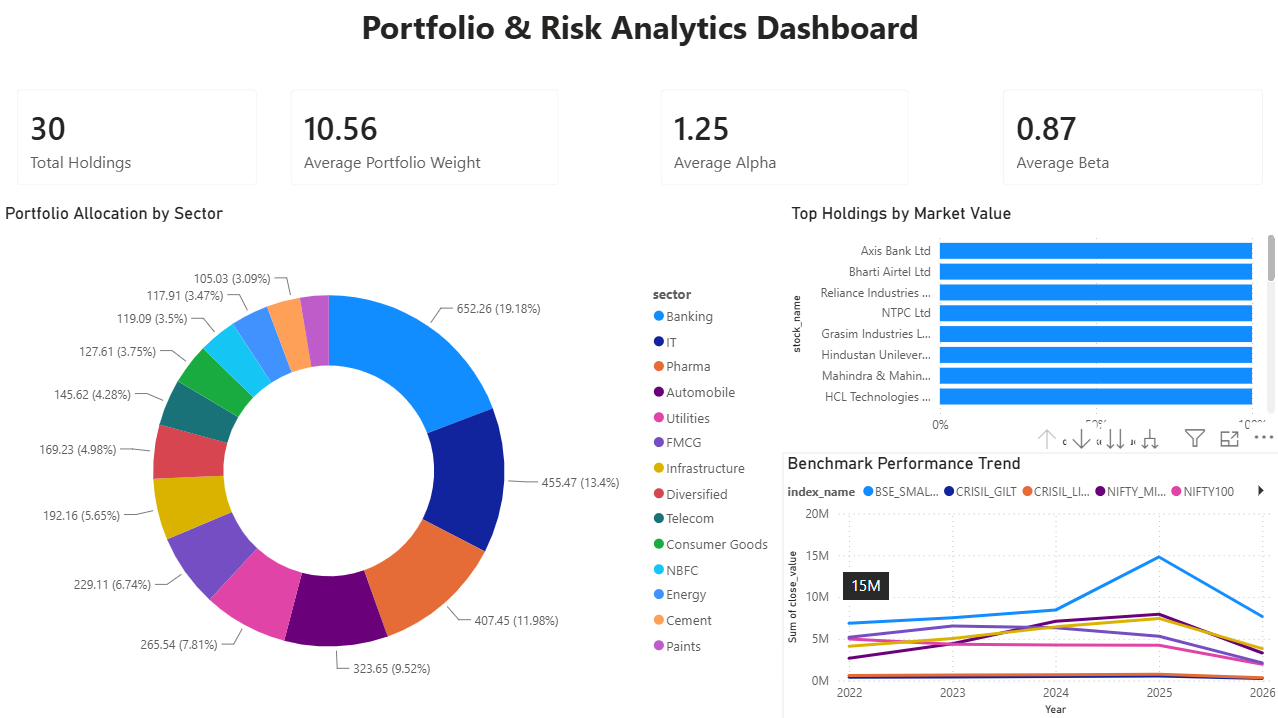

Layout of this report page (visuals, bound fields, positions):
{"tool":"powerbi","page":{"name":"Portfolio & Risk Analytics ","canvas":[1280,720],"ordinal":3},"visuals":[{"type":"textbox","box":[0,0,1280,71.7],"z":0},{"type":"cardVisual","fields":{"Data":["portfolio_clean.Average Portfolio Weight"]},"box":[274,72,302,130],"z":1000},{"type":"cardVisual","fields":{"Data":["portfolio_clean.Total Holdings"]},"box":[0,72,274,130],"z":2000},{"type":"cardVisual","fields":{"Data":["scheme_performance_clean.Average Alpha"]},"box":[644,72,282,130],"z":3000},{"type":"cardVisual","fields":{"Data":["scheme_performance_clean.Average Beta"]},"box":[986,72,294,130],"z":4000},{"type":"donutChart","title":"Portfolio Allocation by Sector","fields":{"Category":["portfolio_clean.sector"],"Y":["Sum(portfolio_clean.weight_pct)"]},"box":[0,202,782,518],"z":5000},{"type":"hundredPercentStackedBarChart","title":"Top Holdings by Market Value","fields":{"Category":["portfolio_clean.stock_name"],"Y":["Sum(portfolio_clean.market_value_cr)"]},"box":[786,202,494,250],"z":6000},{"type":"lineChart","title":"Benchmark Performance Trend","fields":{"Category":["benchmark_clean.date.Variation.Date Hierarchy.Year","benchmark_clean.date.Variation.Date Hierarchy.Quarter","benchmark_clean.date.Variation.Date Hierarchy.Month","benchmark_clean.date.Variation.Date Hierarchy.Day"],"Y":["Sum(benchmark_clean.close_value)"],"Series":["benchmark_clean.index_name"]},"box":[782,452,498,268],"z":7000}]}

Visuals, with their boxes in screenshot pixels (x1, y1, x2, y2), scaled from the page's 1280x720 canvas onto the 1278x718 screenshot:
textbox: {"x1": 0, "y1": 0, "x2": 1277, "y2": 72}
cardVisual - portfolio_clean.Average Portfolio Weight: {"x1": 274, "y1": 72, "x2": 575, "y2": 201}
cardVisual - portfolio_clean.Total Holdings: {"x1": 0, "y1": 72, "x2": 274, "y2": 201}
cardVisual - scheme_performance_clean.Average Alpha: {"x1": 643, "y1": 72, "x2": 925, "y2": 201}
cardVisual - scheme_performance_clean.Average Beta: {"x1": 984, "y1": 72, "x2": 1277, "y2": 201}
"Portfolio Allocation by Sector" donutChart: {"x1": 0, "y1": 201, "x2": 781, "y2": 717}
"Top Holdings by Market Value" hundredPercentStackedBarChart: {"x1": 785, "y1": 201, "x2": 1277, "y2": 451}
"Benchmark Performance Trend" lineChart: {"x1": 781, "y1": 451, "x2": 1277, "y2": 717}
